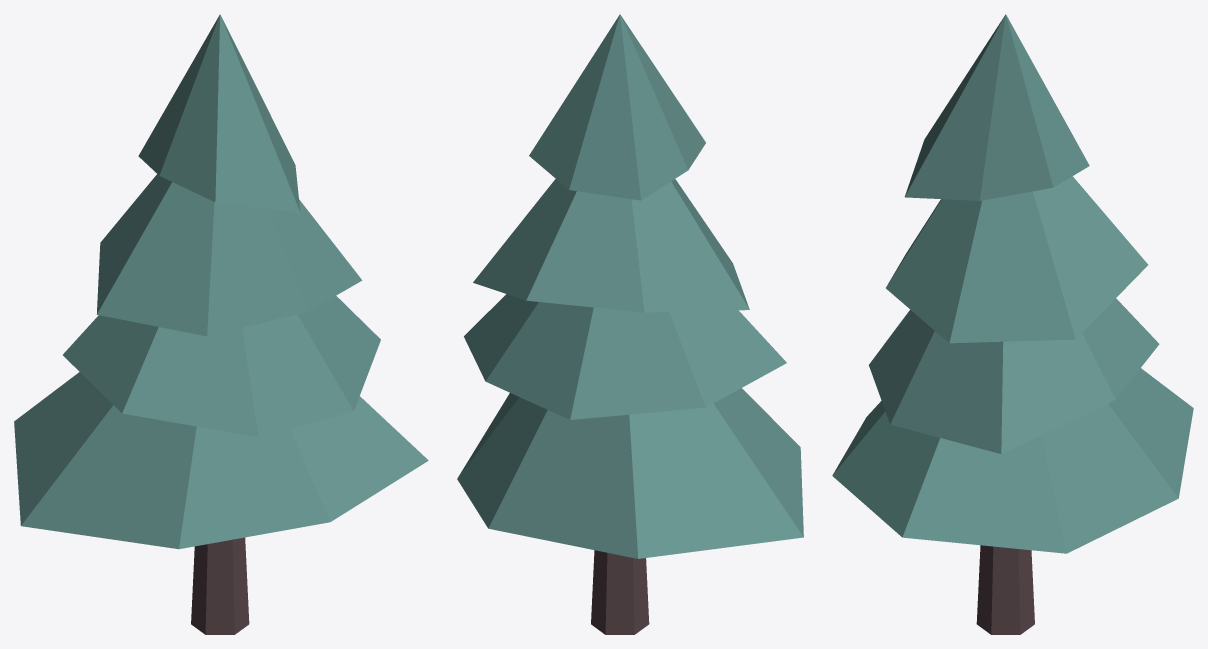
File: pine_02.glb
3 renders of one model, left to right at view 1: azimuth 30°, elevation 25°; view 2: azimuth 150°, elevation 25°; view 3: azimuth 270°, elevation 25°, orthographic.
Parts seen in each view (by area): view 1: pine_02; view 2: pine_02; view 3: pine_02.
Part boxes in pixels (x1=…): pine_02: x1=14, y1=14, x2=428, y2=634; pine_02: x1=457, y1=14, x2=803, y2=634; pine_02: x1=832, y1=14, x2=1193, y2=634.
Bounding box in the file's own units: 3.88 × 6.46 × 3.47.
